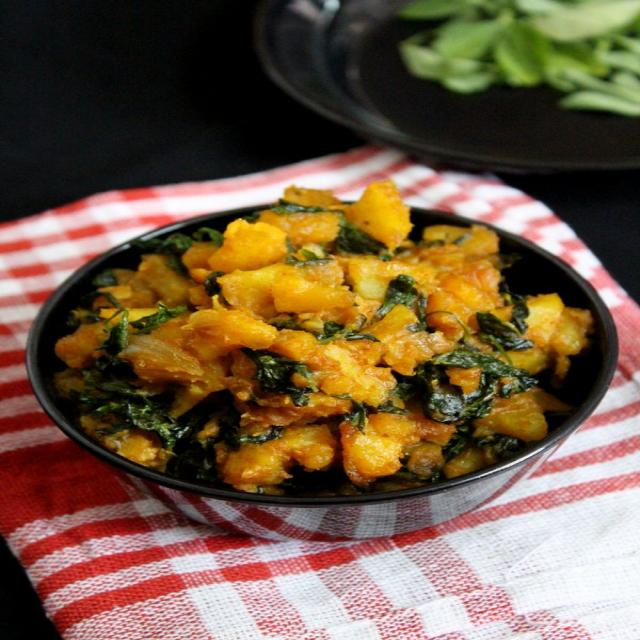Aloo Methi: (51, 176, 594, 493)
